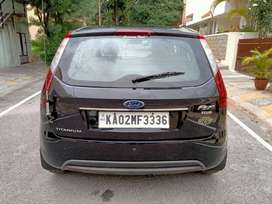KA02MF3336: (98, 111, 169, 128)
